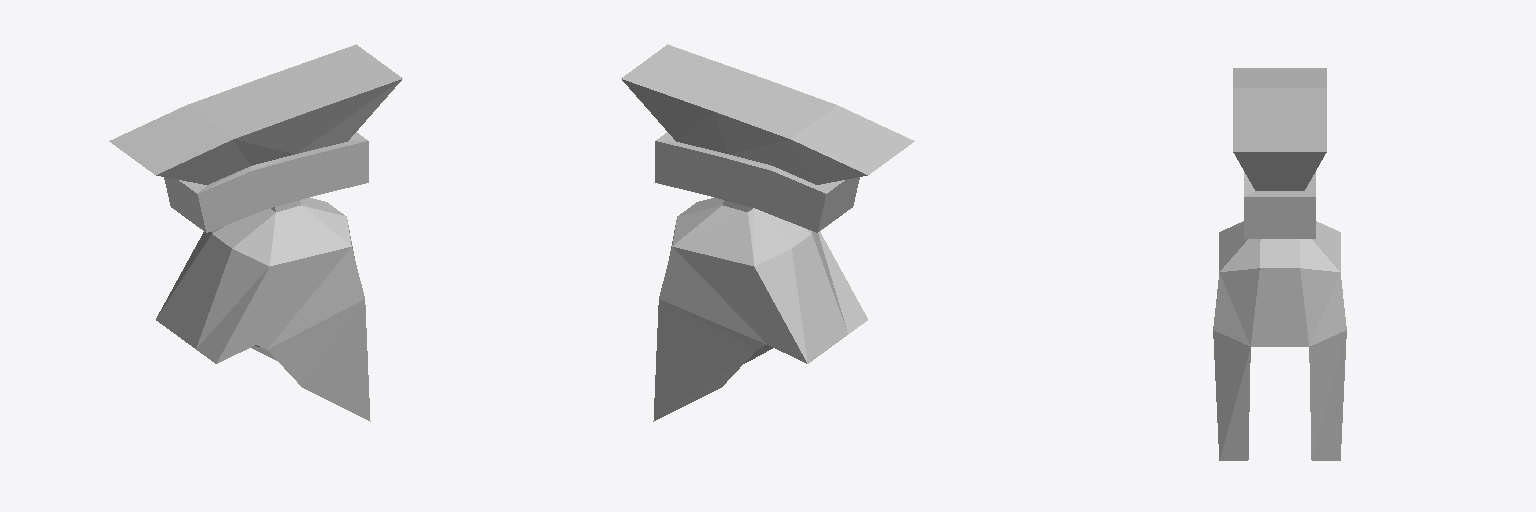
File: GladiatorHelmet.obj
3 views of the same model, side by side, from view 1: azimuth 30°, elevation 25°; view 2: azimuth 150°, elevation 25°; view 3: azimuth 270°, elevation 25° (orthographic).
Parts seen in each view (by area): view 1: pCube1; view 2: pCube1; view 3: pCube1.
Boxes of the visible parts, x1=… form: pCube1: x1=109, y1=44, x2=402, y2=421; pCube1: x1=621, y1=44, x2=914, y2=421; pCube1: x1=1213, y1=68, x2=1346, y2=460.
Bounding box in the file's own units: 3.64 × 4.62 × 1.7.